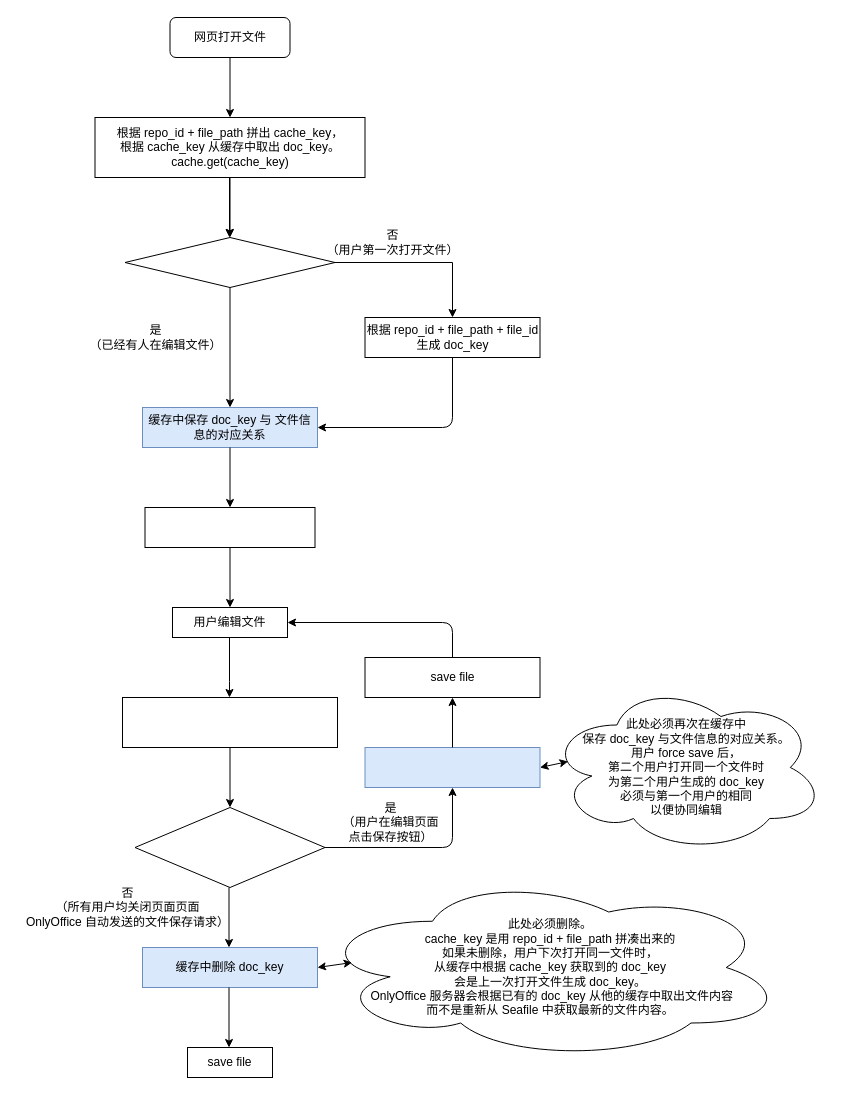
Image size: 842x1095. Some labels were removed from this diagram. Each missing label, with the centre of its shape:
"seahub 收到 OnlyOffice 服务器发送来的保存文件的请求" belongs at point (230, 722).
"判断此次保存 是否为 force save 请求" belongs at point (229, 847).
"是否获取到 doc_key?" belongs at point (229, 262).
"生产参数渲染 web 页面" belongs at point (229, 527).
"缓存中保存 doc_key 与文件信息的对应关系" belongs at point (452, 767).
